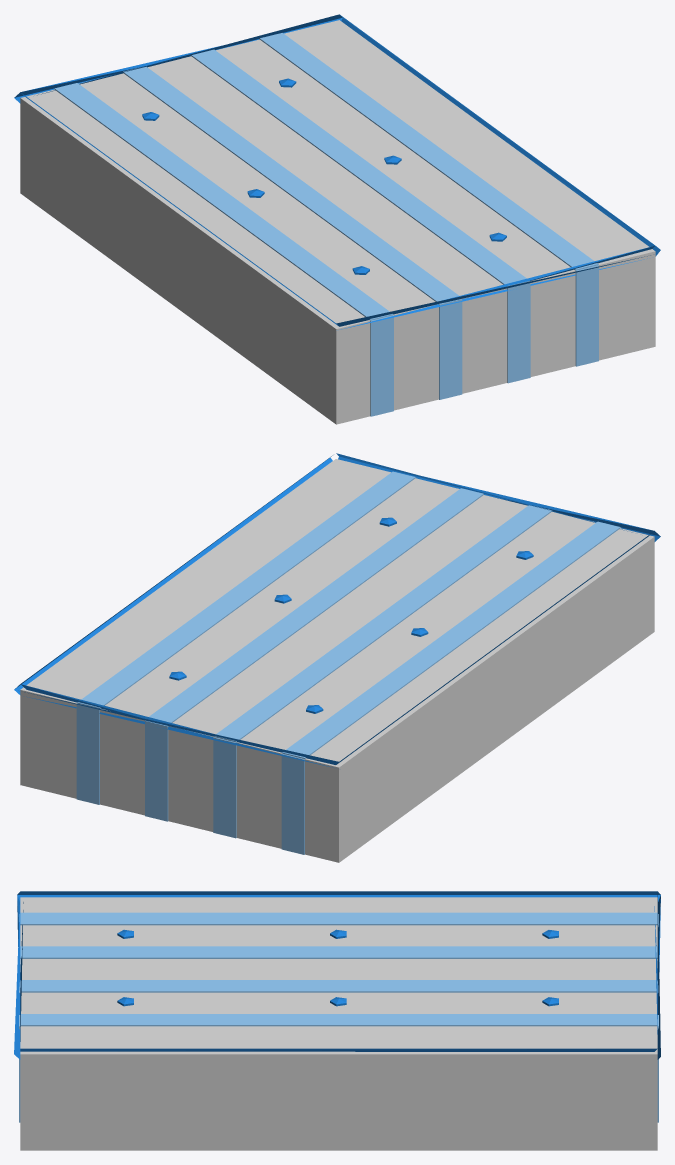
File: madrass.glb
3 renders of one model, top to bottom at view 1: azimuth 30°, elevation 25°; view 2: azimuth 150°, elevation 25°; view 3: azimuth 270°, elevation 25°, orthographic.
Visible parts, largest first — view 1: madrass; view 2: madrass; view 3: madrass.
Part boxes in pixels (x1,y1,x2,y2): madrass: (14,14,660,424); madrass: (14,453,660,862); madrass: (14,891,660,1150).
Bounding box in the file's own units: 0.7224 × 0.212 × 1.22.
